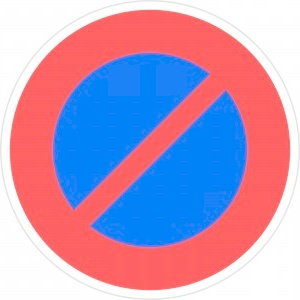Prohibition_sign: (1, 2, 298, 299)
